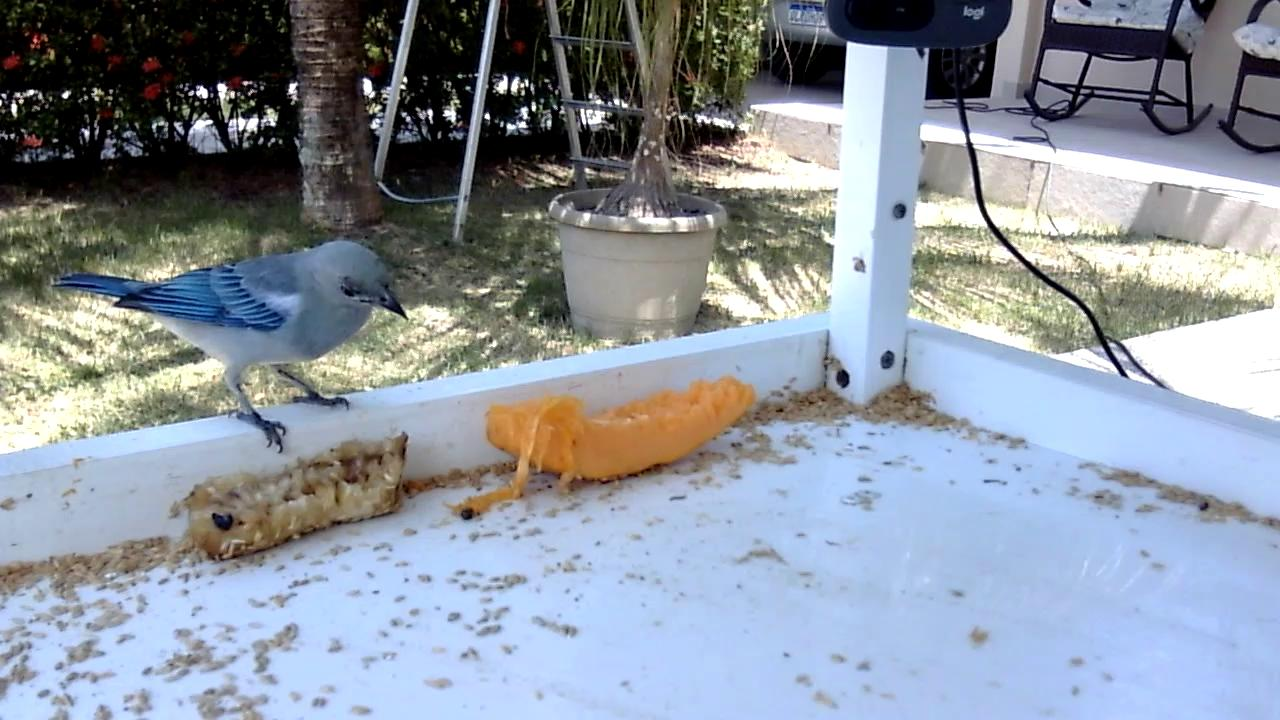sanhaco_da_amazonia: (50, 234, 411, 454)
